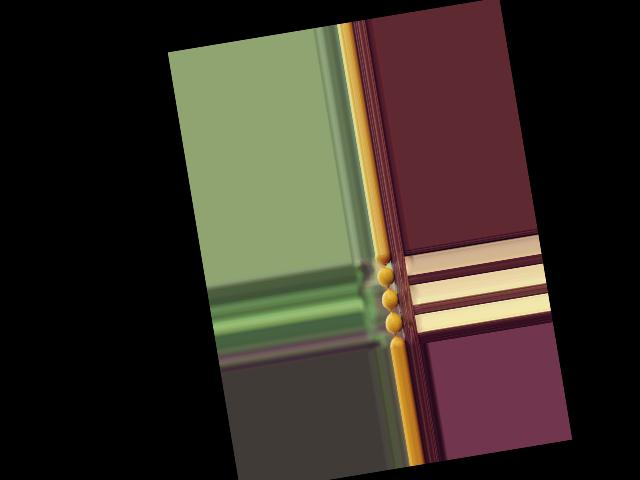lemon: (388, 335, 405, 348)
